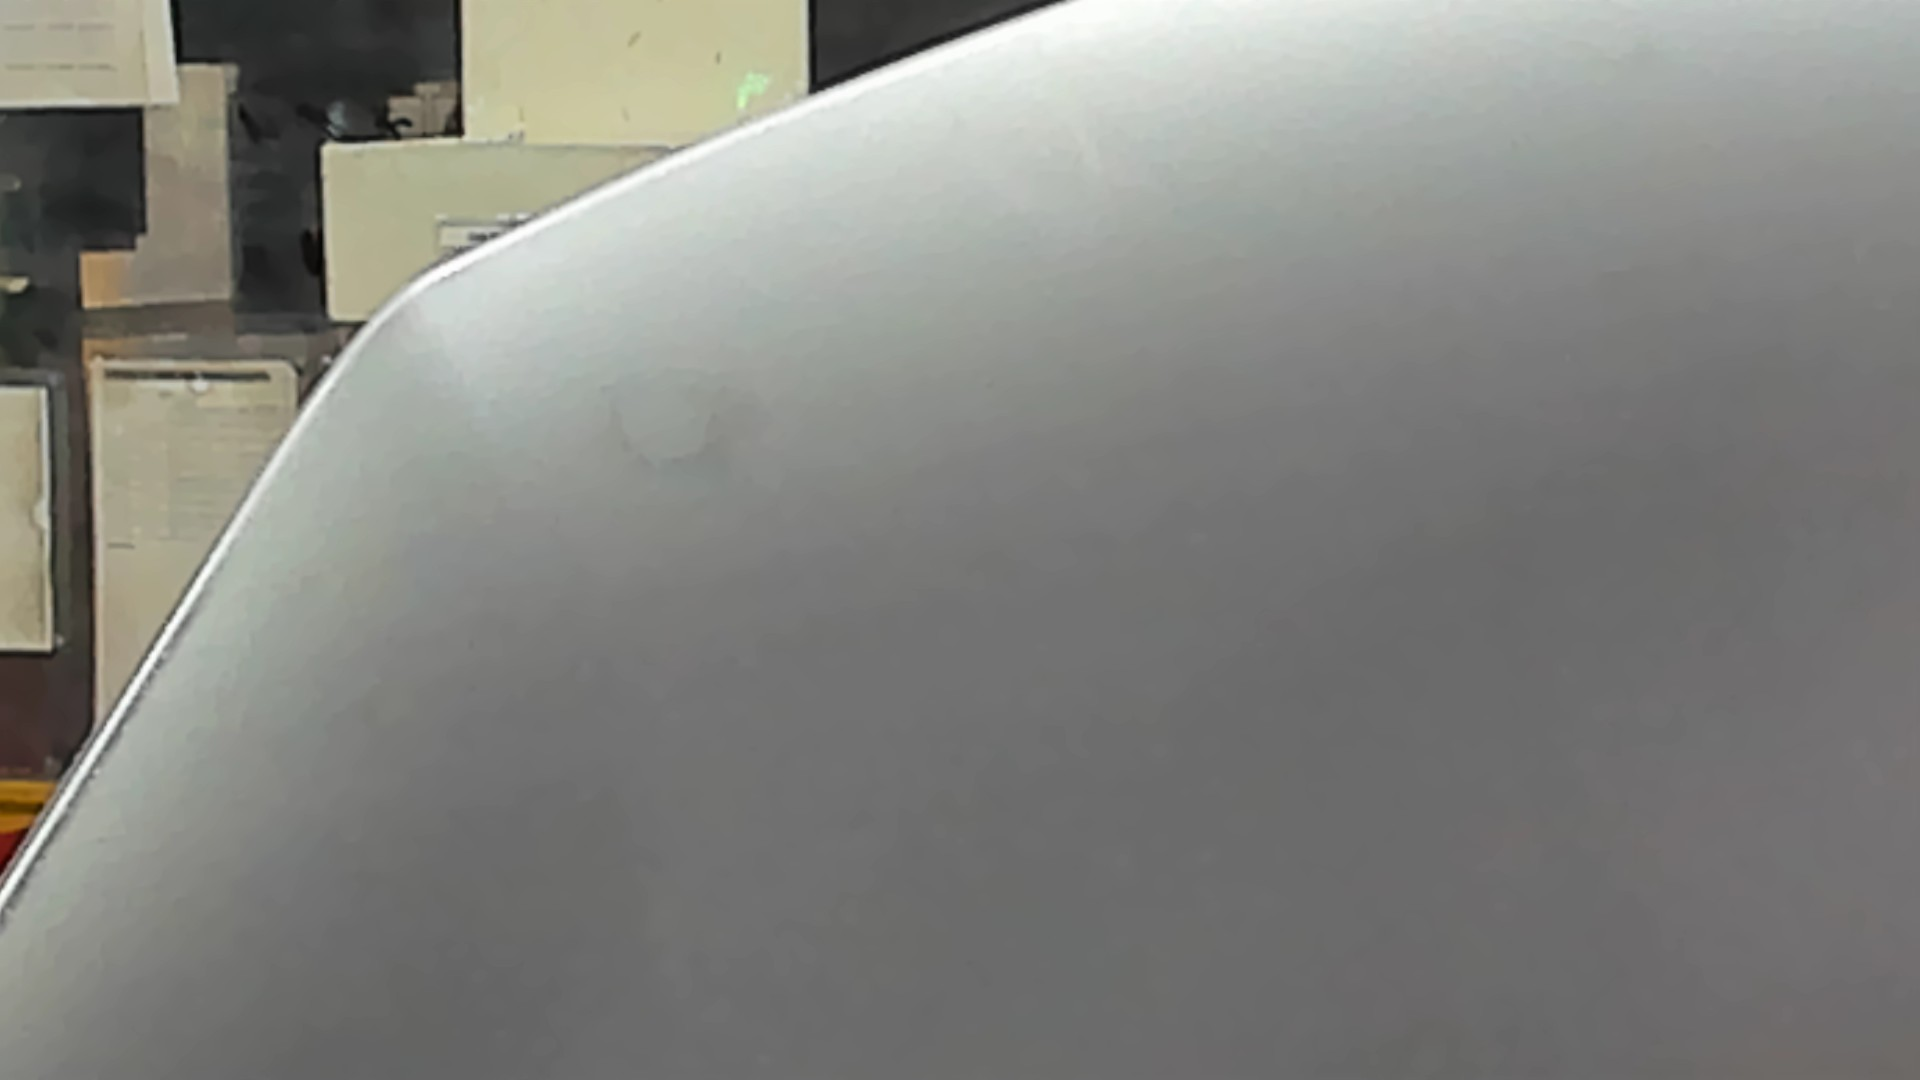capo: (634, 193, 1920, 1080)
